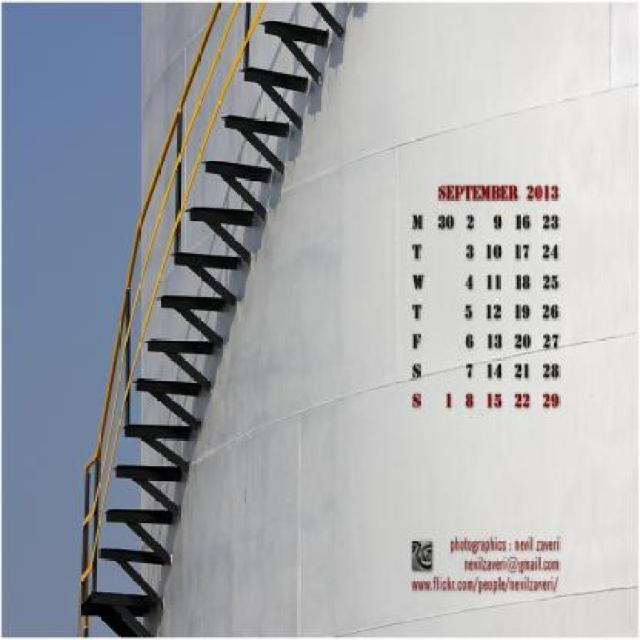stair: (82, 19, 330, 638)
